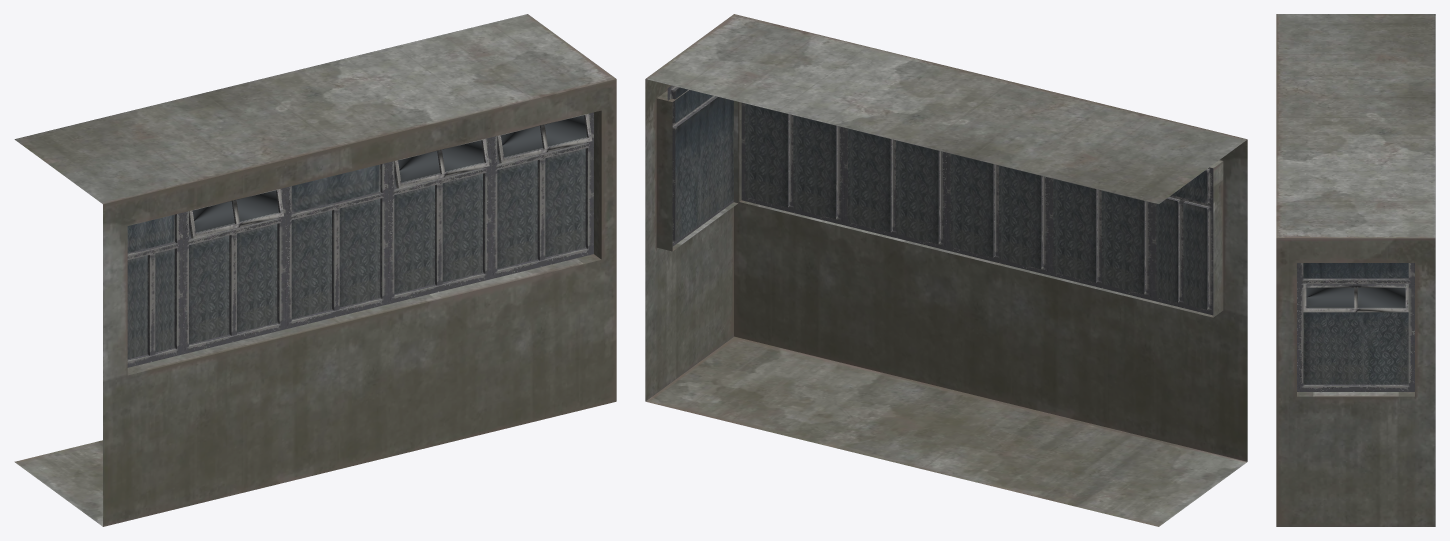
Rendered from sm_floor_three_r.glb.
The picture shows the model from 3 angles, left to right: view 1: azimuth 30°, elevation 25°; view 2: azimuth 150°, elevation 25°; view 3: azimuth 270°, elevation 25°; orthographic projection. The views are drawn at different scales.
Parts seen in each view (by area): view 1: sm_floor_three_r; view 2: sm_floor_three_r; view 3: sm_floor_three_r.
Part boxes in pixels (<box>): sm_floor_three_r: <box>14,14,616,526</box>; sm_floor_three_r: <box>645,14,1247,526</box>; sm_floor_three_r: <box>1276,14,1435,526</box>.
Bounding box in the file's own units: 5 × 3 × 1.5.
2 materials, 2 textured.
